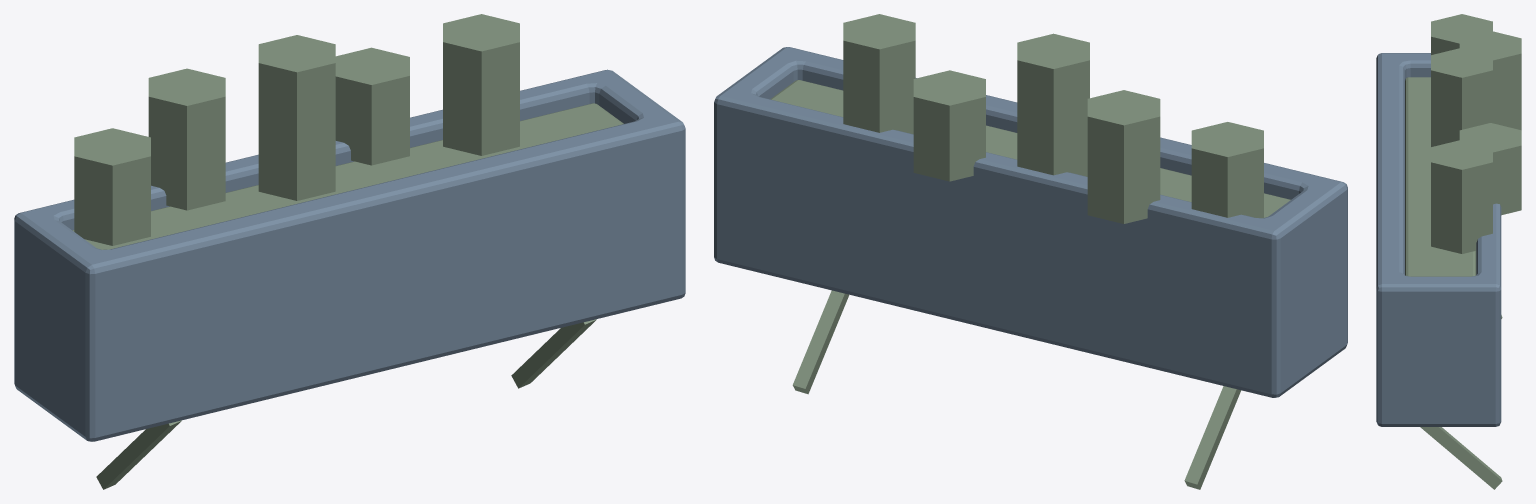
The model's file is SM_Kit_FlowerBox.glb.
3 views of the same model, side by side, from view 1: azimuth 30°, elevation 25°; view 2: azimuth 150°, elevation 25°; view 3: azimuth 270°, elevation 25° (orthographic). The views are drawn at different scales.
Parts seen in each view (by area): view 1: SM_Kit_FlowerBox; view 2: SM_Kit_FlowerBox; view 3: SM_Kit_FlowerBox.
Boxes of the visible parts, left/top/right/bottom form: SM_Kit_FlowerBox: left=14, top=14, right=685, bottom=489; SM_Kit_FlowerBox: left=714, top=14, right=1347, bottom=489; SM_Kit_FlowerBox: left=1376, top=14, right=1521, bottom=489.
Size of the model in its own units: 0.78 by 0.5071 by 0.2033.
